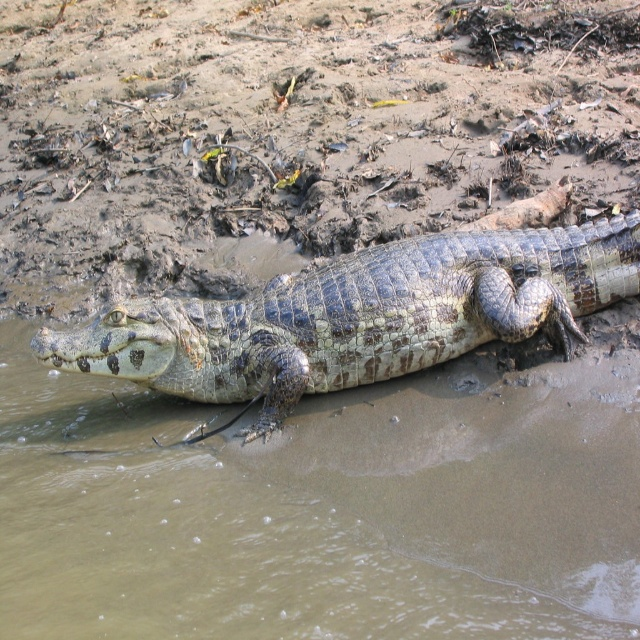Crocodile: (30, 208, 640, 443)
